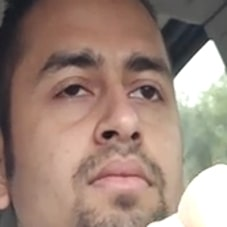awake: (29, 39, 173, 214)
